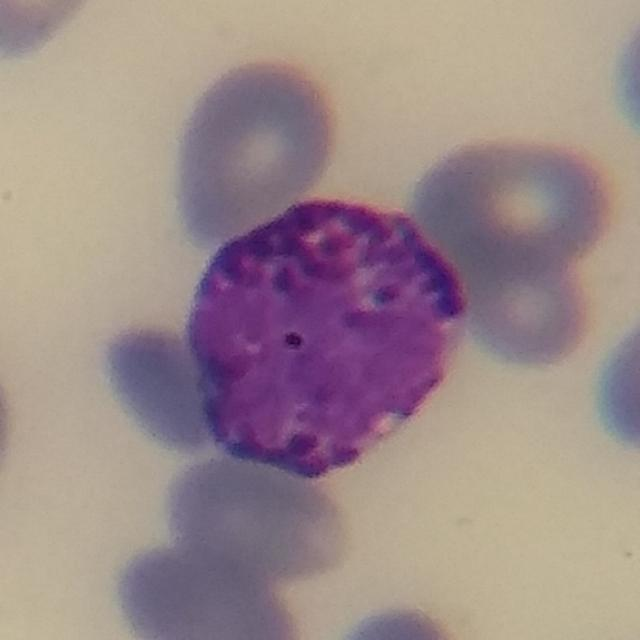Basophil: (184, 186, 467, 469)
RBC: (167, 50, 347, 245), (405, 128, 627, 278), (156, 440, 356, 592), (106, 531, 307, 640), (461, 240, 599, 372), (90, 320, 222, 452), (589, 298, 640, 461), (0, 0, 102, 62), (322, 599, 475, 640), (606, 1, 640, 154), (0, 371, 27, 498)
